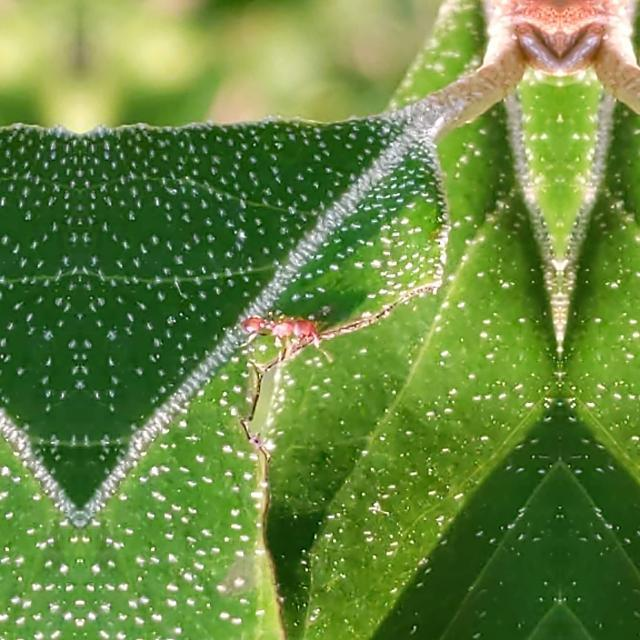Temnothorax: (234, 293, 328, 357)
